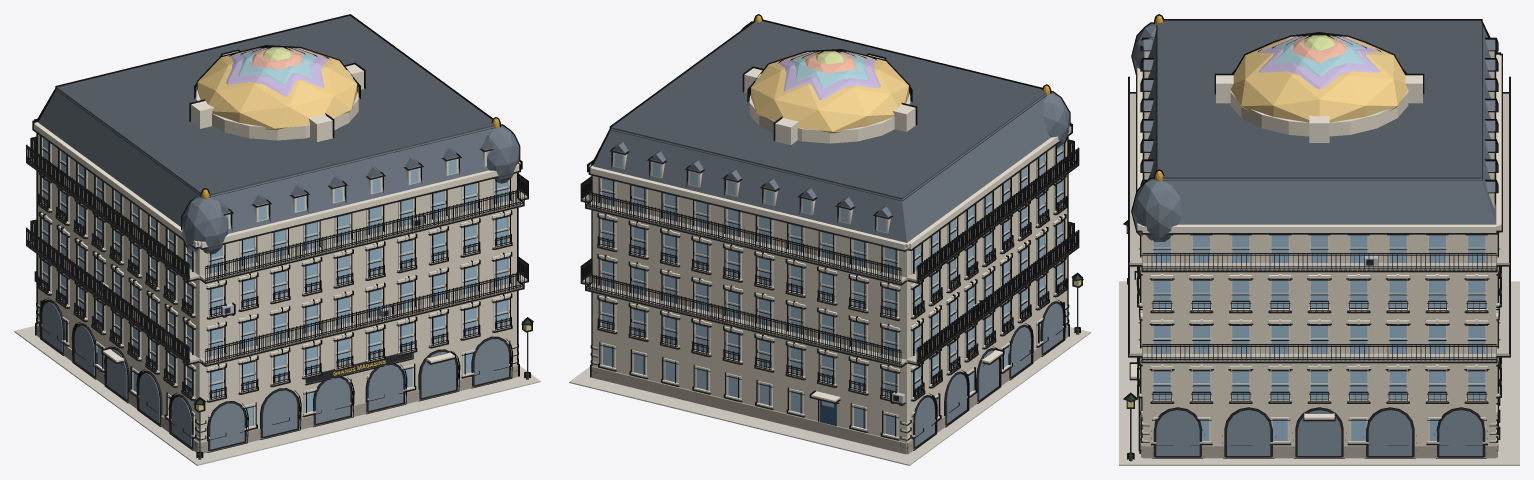
The model's file is Simge_buyuk_magaza.fbx.
3 views of the same model, side by side, from view 1: azimuth 30°, elevation 25°; view 2: azimuth 150°, elevation 25°; view 3: azimuth 270°, elevation 25° (orthographic). The views are drawn at different scales.
Visible parts, largest first — view 1: Simge_buyuk_magaza; view 2: Simge_buyuk_magaza; view 3: Simge_buyuk_magaza.
Boxes of the visible parts, x1,y1,x2,y2 form: Simge_buyuk_magaza: (14,14,540,465); Simge_buyuk_magaza: (569,14,1090,465); Simge_buyuk_magaza: (1119,14,1519,465).
Bounding box in the file's own units: 26 × 22.36 × 24.
